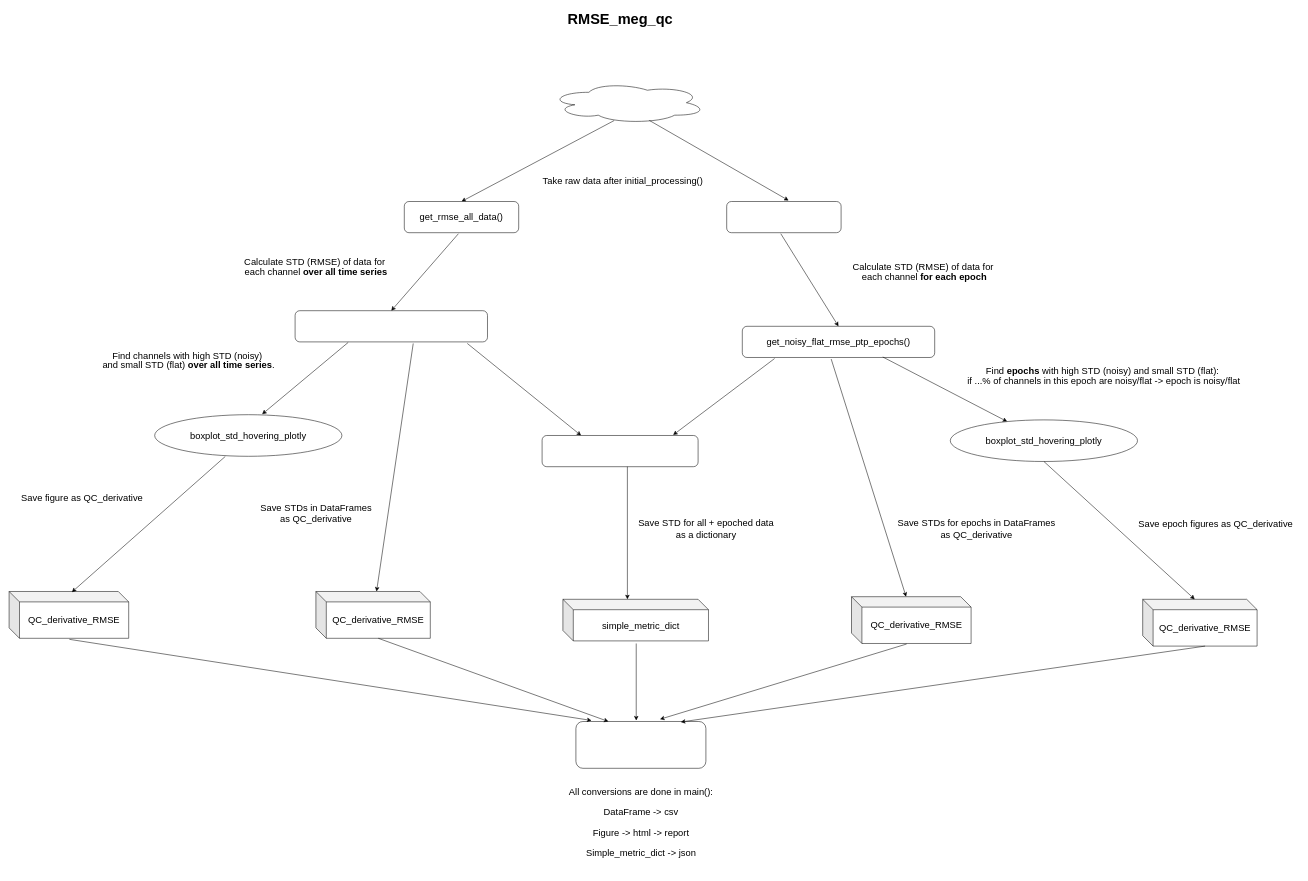
This 1308x881 diagram has some shape labels left out. Each missing label, with the box of its shape:
get_big_small_std_ptp_all_data(): (295, 310, 488, 342)
get_std_epochs(): (726, 201, 841, 233)
main(): (575, 721, 706, 768)
make_simple_metric_rmse(): (542, 435, 698, 467)
Raw data: (549, 81, 706, 124)
